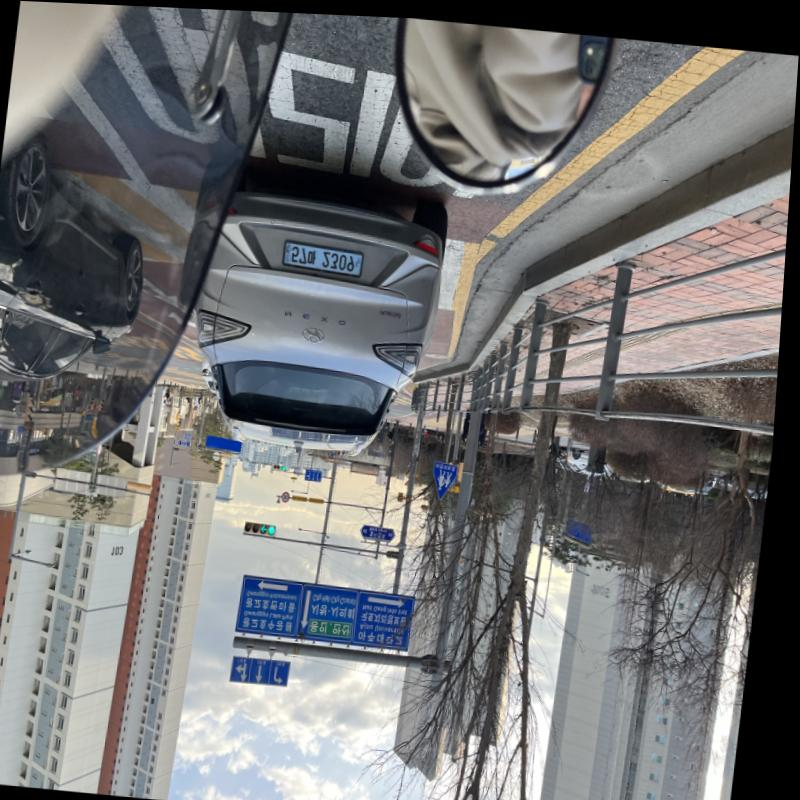green: (275, 523, 282, 532)
left: (267, 520, 275, 531)
